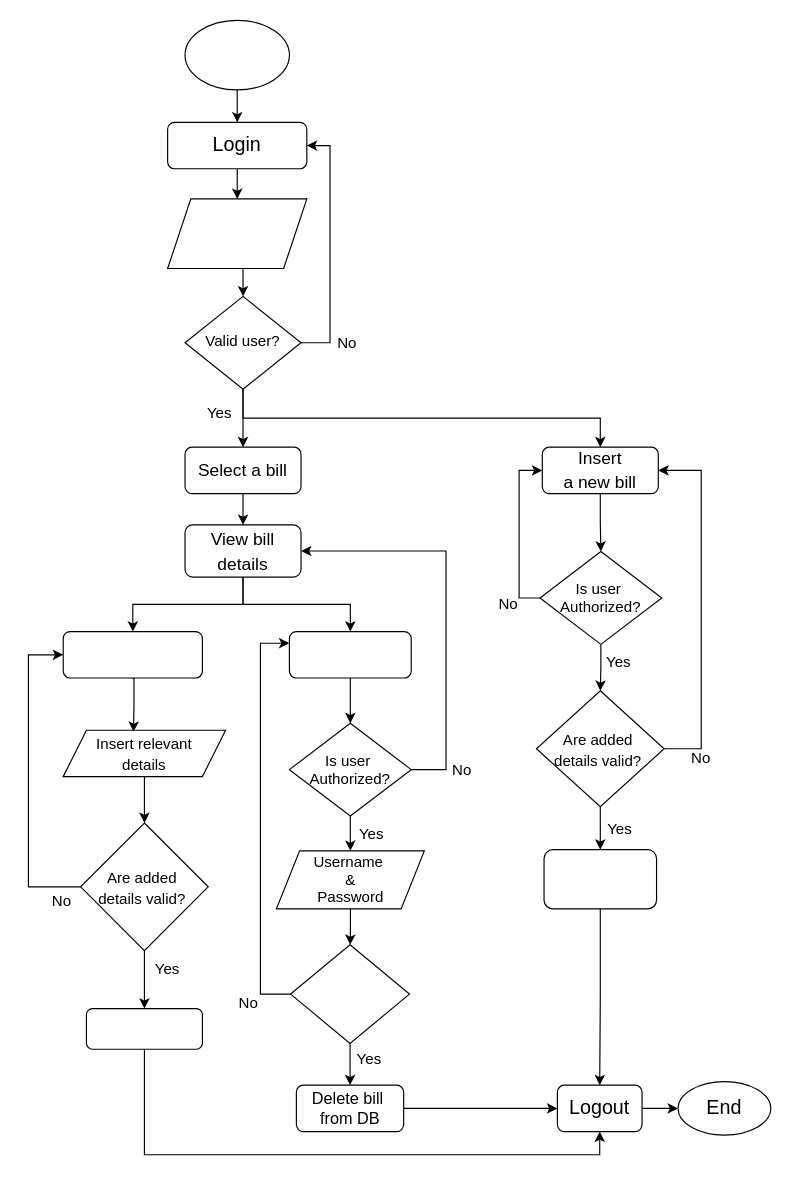
Some shapes in this 791 by 1184 pixel diagram are drawn without their labels. Each missing label, with the centre of its shape:
"Are the credentials correct?" belongs at (349,993).
"Delete bill" belongs at (349,654).
"Edit bill details" belongs at (132,654).
"Insert login credentials" belongs at (236,233).
"Show updated bill" belongs at (600,879).
"Start" belongs at (236,54).
"Update bill" belongs at (143,1028).
